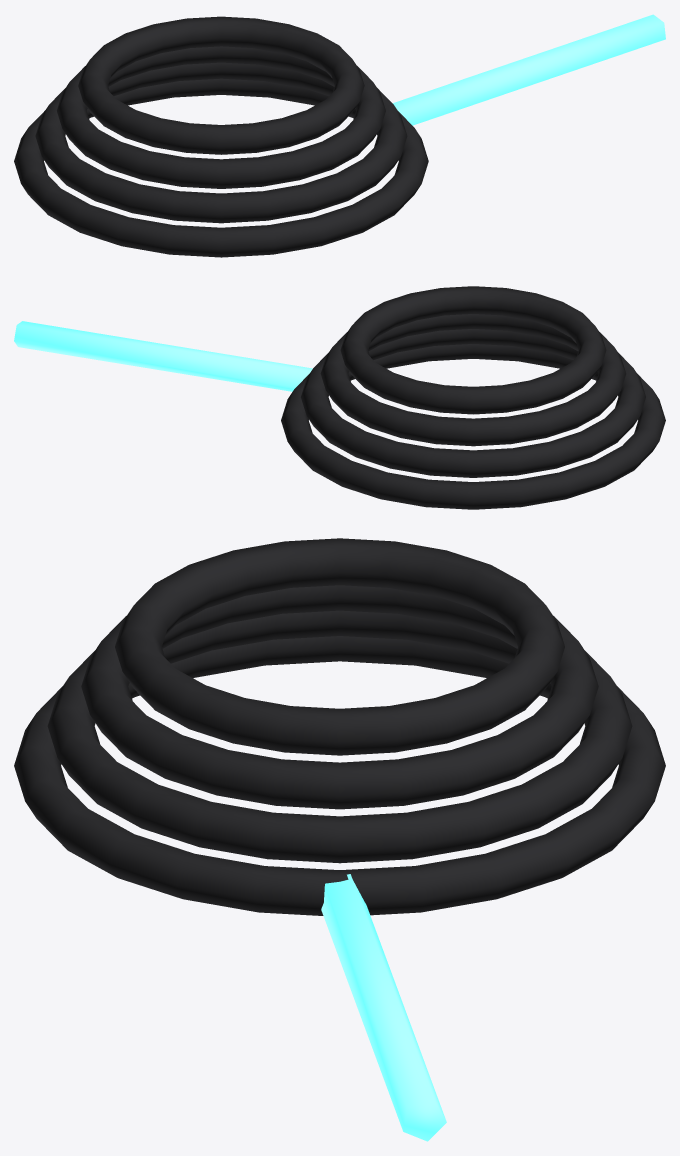
File: cable_bundle_coil.glb
3 renders of one model, top to bottom at view 1: azimuth 30°, elevation 25°; view 2: azimuth 150°, elevation 25°; view 3: azimuth 270°, elevation 25°, orthographic. The views are drawn at different scales.
Visible parts, largest first — view 1: GD_cable_bundle_coil__m0, GD_cable_bundle_coil__m1; view 2: GD_cable_bundle_coil__m0, GD_cable_bundle_coil__m1; view 3: GD_cable_bundle_coil__m0, GD_cable_bundle_coil__m1.
Boxes of the visible parts, <box> form: GD_cable_bundle_coil__m0: <box>14,16,428,257</box>; GD_cable_bundle_coil__m1: <box>393,14,665,125</box>; GD_cable_bundle_coil__m0: <box>281,286,665,509</box>; GD_cable_bundle_coil__m1: <box>14,321,312,391</box>; GD_cable_bundle_coil__m0: <box>14,538,665,915</box>; GD_cable_bundle_coil__m1: <box>321,874,446,1141</box>.
Bounding box in the file's own units: 0.6959 × 0.1039 × 0.388.
